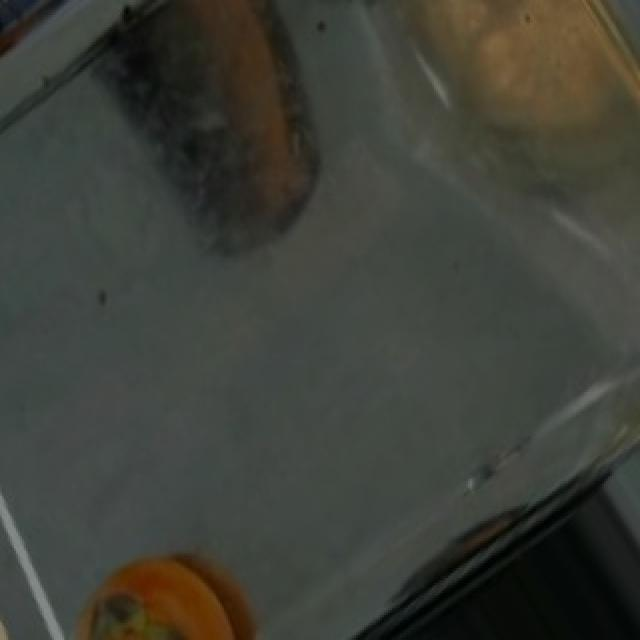Fruit: (62, 538, 260, 640)
